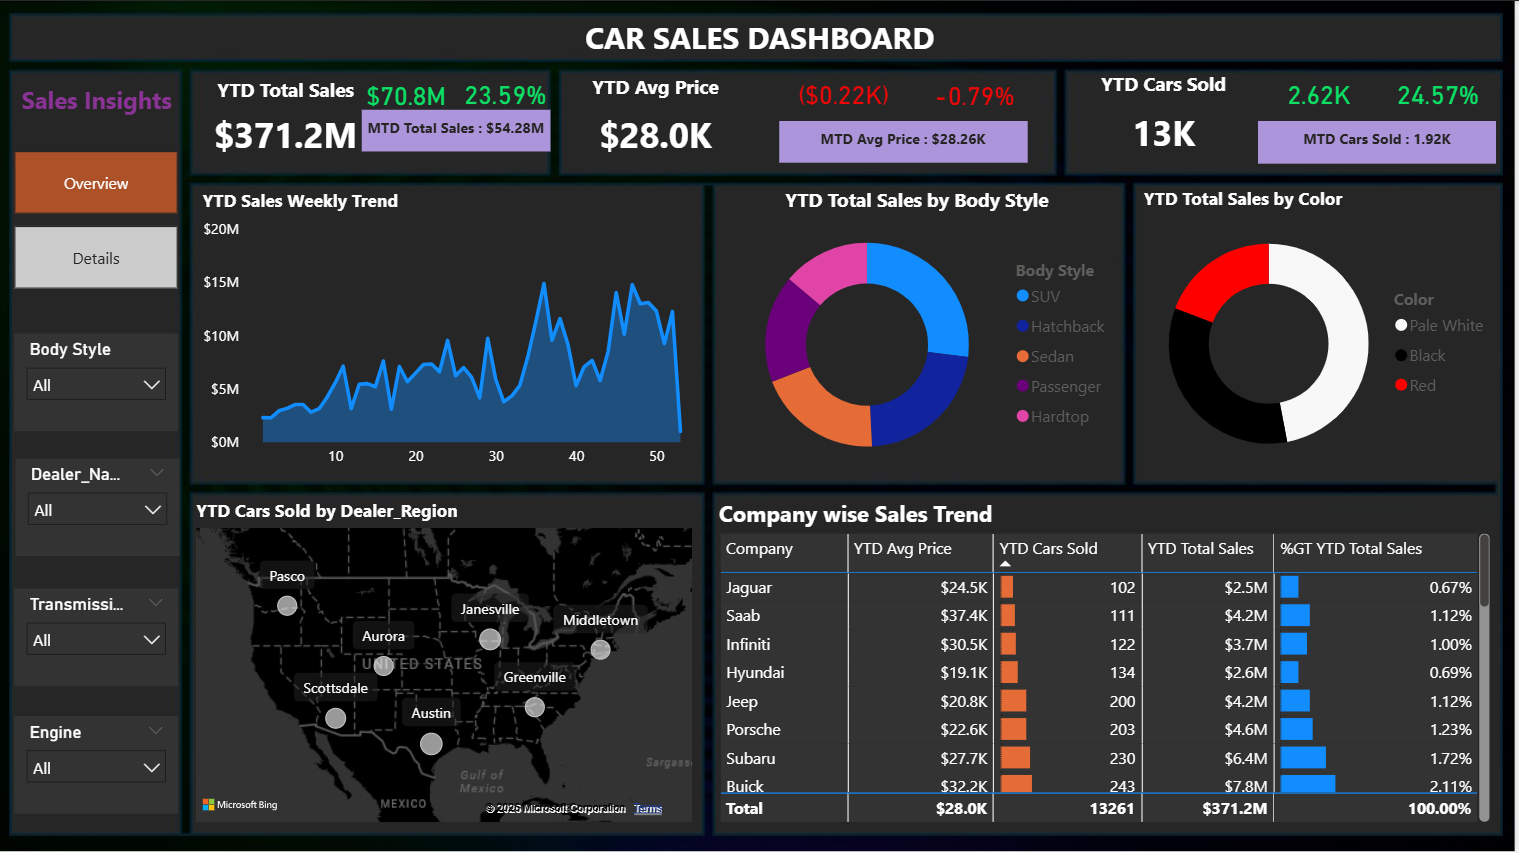

What the dashboard file says about the page in this screenshot:
{"tool":"powerbi","page":{"name":"Overview","canvas":[1280,720],"ordinal":0},"visuals":[{"type":"card","title":"YTD Total Sales","fields":{"Values":["car_data.YTD Total Sales"]},"box":[167.4,62.8,150,79.1],"z":0},{"type":"card","fields":{"Values":["car_data.Sales Difference"]},"box":[301.2,59.3,86,41.9],"z":1000},{"type":"card","fields":{"Values":["car_data.YOY Sales Growth"]},"box":[387.2,58.1,82.6,41.9],"z":2000},{"type":"card","fields":{"Values":["car_data.MTD KPI"]},"box":[307,91.9,159.3,34.9],"z":3000},{"type":"card","title":"YTD Avg Price","fields":{"Values":["car_data.YTD Avg Price"]},"box":[469.8,61.6,170.9,82.6],"z":4000},{"type":"card","fields":{"Values":["car_data.Avg Price Diff"]},"box":[648.8,58.1,130.2,41.9],"z":5000},{"type":"card","fields":{"Values":["car_data.YOY Avg Price Growth"]},"box":[764,59.3,120.9,41.9],"z":6000},{"type":"card","fields":{"Values":["car_data.MTD Avg Price KPI"]},"box":[659.3,101.2,209.3,34.9],"z":7000},{"type":"card","title":"YTD Cars Sold","fields":{"Values":["car_data.YTD Cars Sold"]},"box":[903.5,58.1,159.3,86],"z":8000},{"type":"card","fields":{"Values":["car_data.Cars Sold Diff"]},"box":[1062.8,58.1,103.5,43],"z":9000},{"type":"card","fields":{"Values":["car_data.YOY Cars Sold"]},"box":[1166.3,58.1,97.7,43],"z":10000},{"type":"card","fields":{"Values":["car_data.MTD Cars Sold KPI"]},"box":[1062.8,101.2,201.2,36],"z":11000},{"type":"stackedAreaChart","title":"YTD Sales Weekly Trend","fields":{"Category":["Calender Table.Week"],"Y":["Sum(car_data.Price ($))"]},"box":[167.4,158.1,423.3,244.2],"z":12000},{"type":"donutChart","fields":{"Category":["car_data.Body Style"],"Y":["car_data.YTD Total Sales"]},"box":[603.5,155.8,344.2,246.5],"z":13000},{"type":"donutChart","fields":{"Category":["car_data.Color"],"Y":["car_data.YTD Total Sales"]},"box":[961.6,155.8,305.8,246.5],"z":14000},{"type":"tableEx","title":"Company wise Sales Trend","fields":{"Values":["car_data.Company","car_data.YTD Avg Price","car_data.YTD Cars Sold","car_data.YTD Total Sales1","car_data.YTD Total Sales"]},"box":[603.5,419.8,660.5,277.9],"z":15000},{"type":"slicer","fields":{"Values":["car_data.Body Style"]},"box":[14,280.2,138.4,82.6],"z":16000},{"type":"slicer","fields":{"Values":["car_data.Dealer_Name"]},"box":[15.1,386,138.4,82.6],"z":17000},{"type":"slicer","fields":{"Values":["car_data.Transmission"]},"box":[14,495.4,138.4,82.6],"z":18000},{"type":"slicer","fields":{"Values":["car_data.Engine"]},"box":[14,603.5,138.4,82.6],"z":19000},{"type":"map","fields":{"Category":["car_data.Dealer_Region"],"Size":["car_data.YTD Cars Sold"]},"box":[162.8,419.8,427.9,277.9],"z":20000},{"type":"textbox","title":" CAR SALES DASHBOARD","box":[490.3,13.7,774,34.8],"z":21000},{"type":"pageNavigator","box":[14,126.7,138.4,116.3],"z":22000},{"type":"textbox","title":"Sales Insights","box":[15.1,69.8,137.2,57],"z":23000}]}

Visuals, with their boxes in screenshot pixels (x1, y1, x2, y2), scaled from the page's 1280x720 canvas onto the 1519x853 screenshot:
"YTD Total Sales" card: [x1=199, y1=74, x2=377, y2=168]
card - car_data.Sales Difference: [x1=357, y1=70, x2=459, y2=120]
card - car_data.YOY Sales Growth: [x1=459, y1=69, x2=558, y2=118]
card - car_data.MTD KPI: [x1=364, y1=109, x2=553, y2=150]
"YTD Avg Price" card: [x1=558, y1=73, x2=760, y2=171]
card - car_data.Avg Price Diff: [x1=770, y1=69, x2=924, y2=118]
card - car_data.YOY Avg Price Growth: [x1=907, y1=70, x2=1050, y2=120]
card - car_data.MTD Avg Price KPI: [x1=782, y1=120, x2=1031, y2=161]
"YTD Cars Sold" card: [x1=1072, y1=69, x2=1261, y2=171]
card - car_data.Cars Sold Diff: [x1=1261, y1=69, x2=1384, y2=120]
card - car_data.YOY Cars Sold: [x1=1384, y1=69, x2=1500, y2=120]
card - car_data.MTD Cars Sold KPI: [x1=1261, y1=120, x2=1500, y2=163]
"YTD Sales Weekly Trend" stackedAreaChart: [x1=199, y1=187, x2=701, y2=477]
donutChart - car_data.Body Style x car_data.YTD Total Sales: [x1=716, y1=185, x2=1125, y2=477]
donutChart - car_data.Color x car_data.YTD Total Sales: [x1=1141, y1=185, x2=1504, y2=477]
"Company wise Sales Trend" tableEx: [x1=716, y1=497, x2=1500, y2=827]
slicer - car_data.Body Style: [x1=17, y1=332, x2=181, y2=430]
slicer - car_data.Dealer_Name: [x1=18, y1=457, x2=182, y2=555]
slicer - car_data.Transmission: [x1=17, y1=587, x2=181, y2=685]
slicer - car_data.Engine: [x1=17, y1=715, x2=181, y2=813]
map - car_data.Dealer_Region x car_data.YTD Cars Sold: [x1=193, y1=497, x2=701, y2=827]
" CAR SALES DASHBOARD" textbox: [x1=582, y1=16, x2=1500, y2=57]
pageNavigator: [x1=17, y1=150, x2=181, y2=288]
"Sales Insights" textbox: [x1=18, y1=83, x2=181, y2=150]
